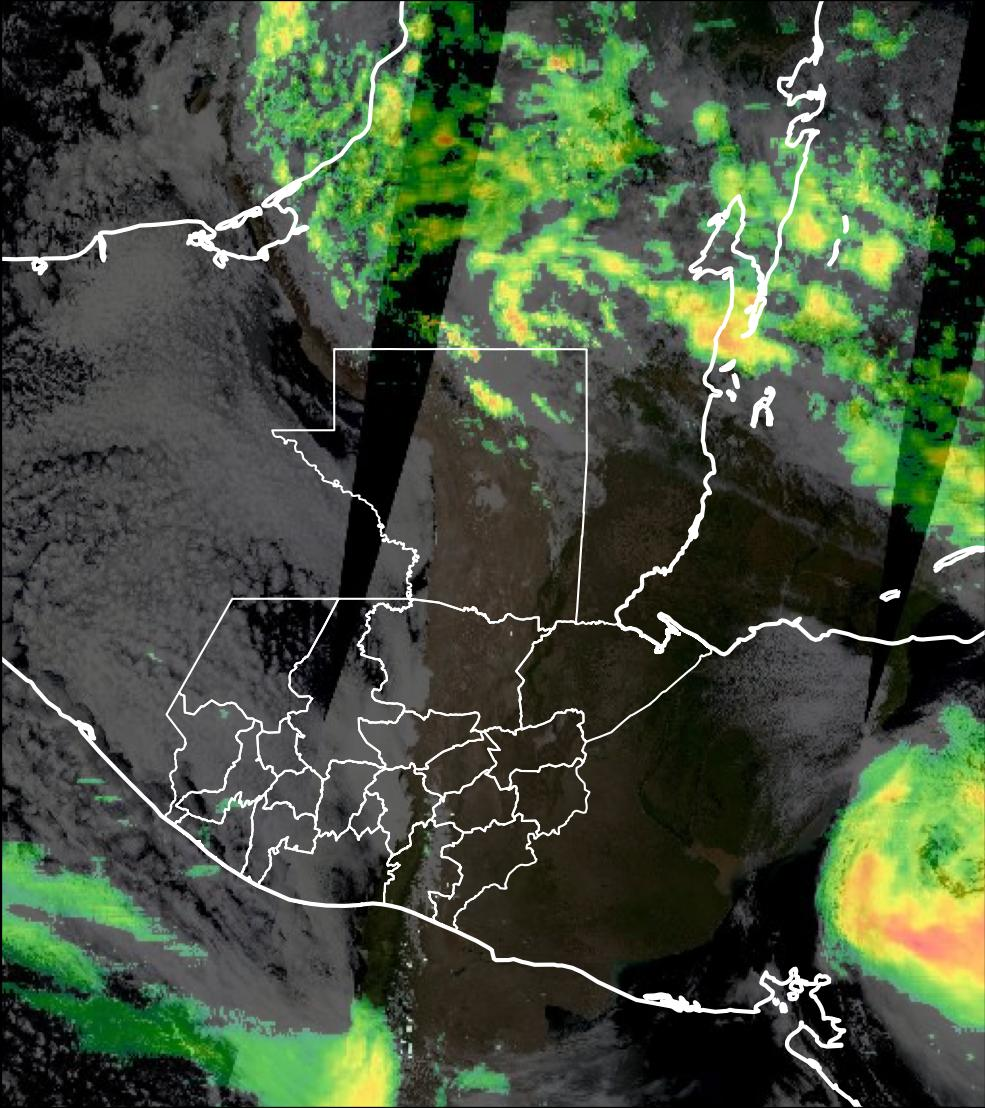precipitacion: (837, 843, 985, 995)
